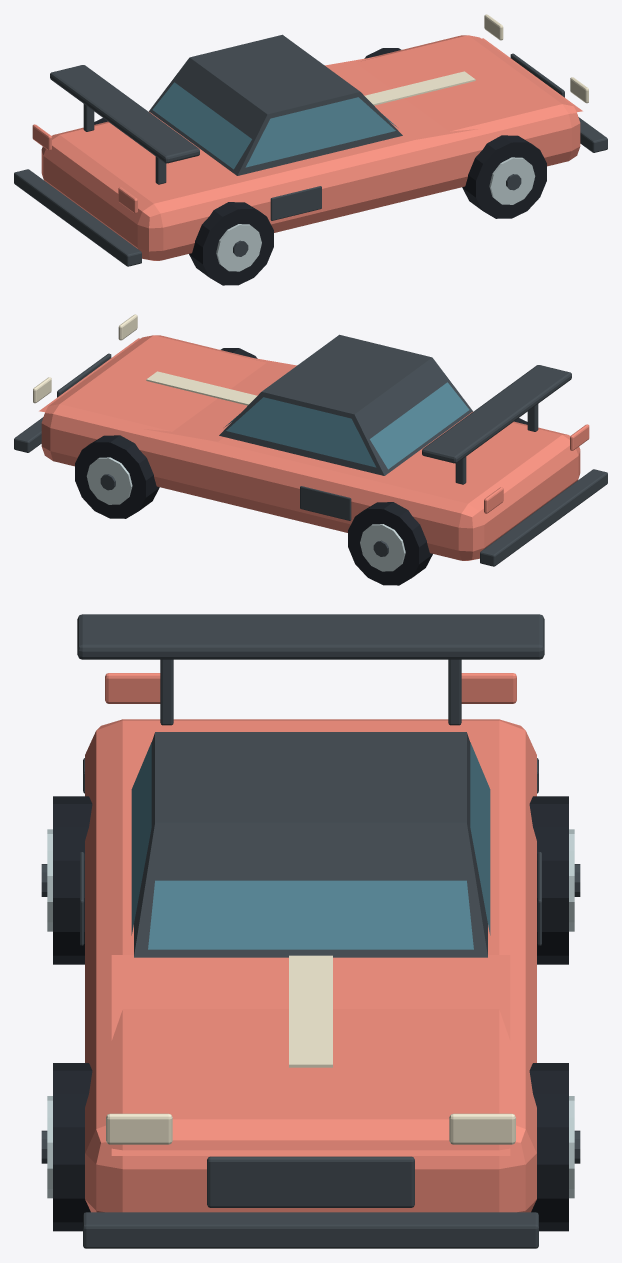
The model's file is SportsCar.fbx.
The picture shows the model from 3 angles, top to bottom: view 1: azimuth 30°, elevation 25°; view 2: azimuth 150°, elevation 25°; view 3: azimuth 270°, elevation 25°; orthographic projection. The views are drawn at different scales.
Visible parts, largest first — view 1: SportsCar; view 2: SportsCar; view 3: SportsCar.
Part boxes in pixels (box(x1,y1,x2,y2)): SportsCar: box(14, 14, 607, 285); SportsCar: box(14, 314, 607, 585); SportsCar: box(41, 614, 580, 1248).
Bounding box in the file's own units: 502 × 139 × 243.
